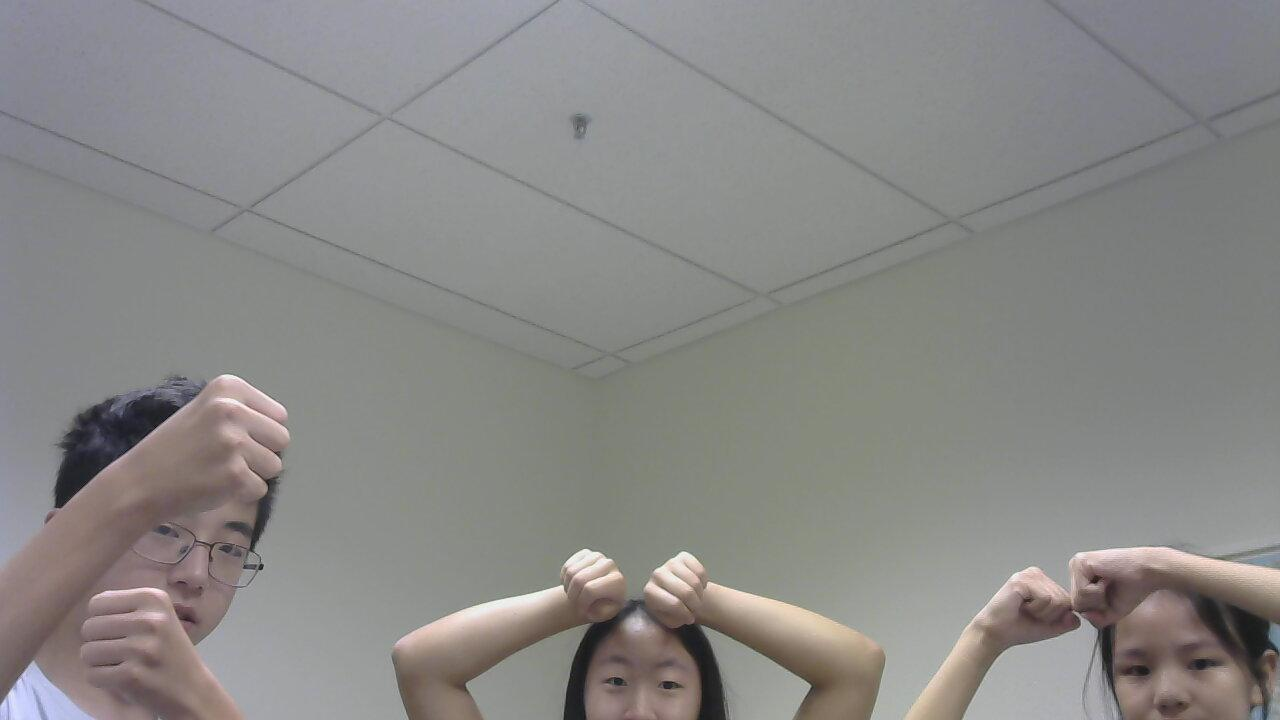fist: (106, 377, 317, 536), (617, 529, 766, 653), (91, 577, 216, 720), (1055, 512, 1201, 631), (978, 547, 1090, 668), (536, 532, 630, 624)
